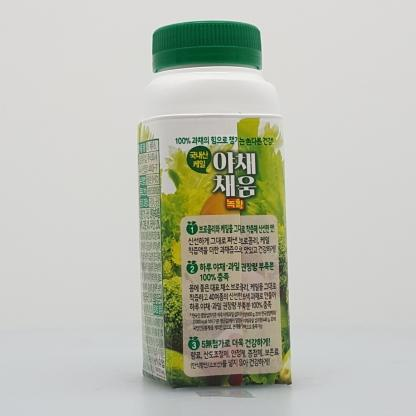---------190ML: (137, 21, 293, 390)
